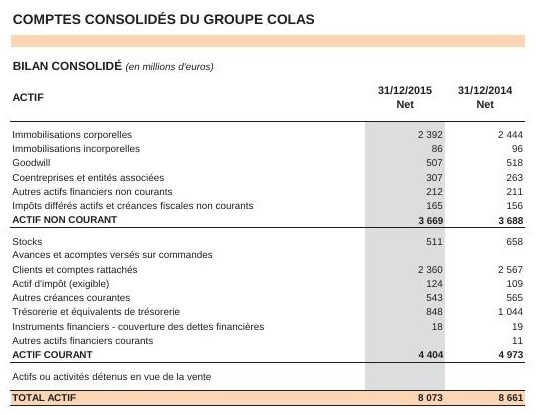table: (0, 0, 536, 415)
